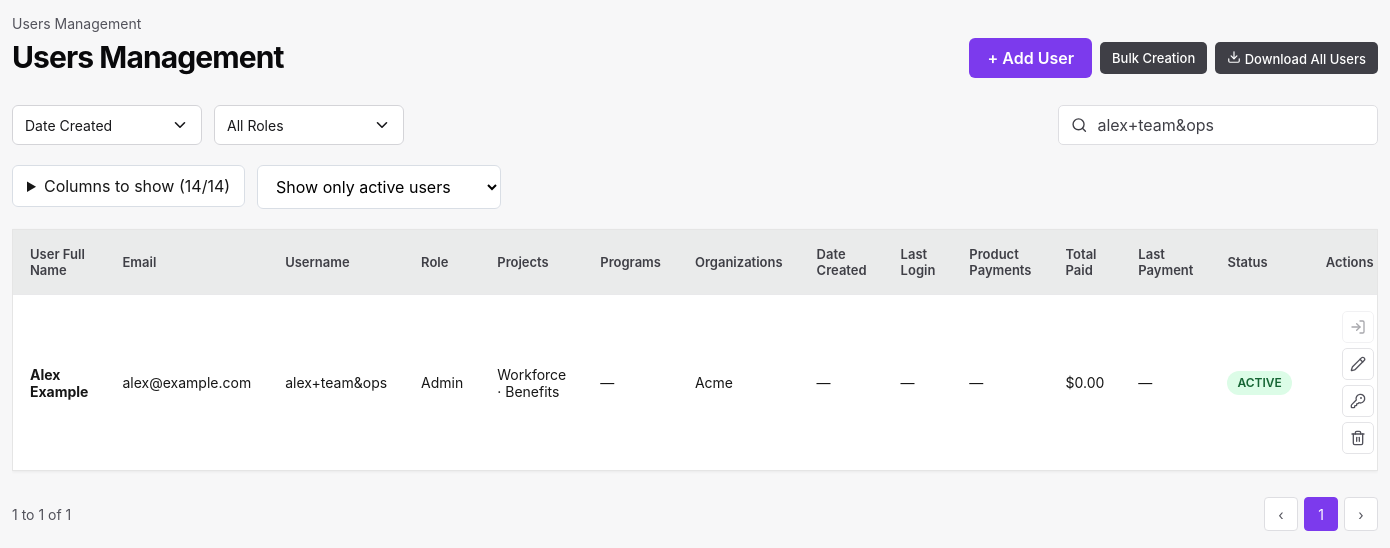
Test case: prefills and filters users from the URL username while allowing search edits
The width and height of the screenshot is (1390, 548).
Check: the text "Alex Example" is shown, box [30,366,88,400]
Check: the text "Blair Example" is not shown
Replace the text in the search field with placeholder "Search users" with "blair" at (1230, 125), box [1096,114,1365,136]
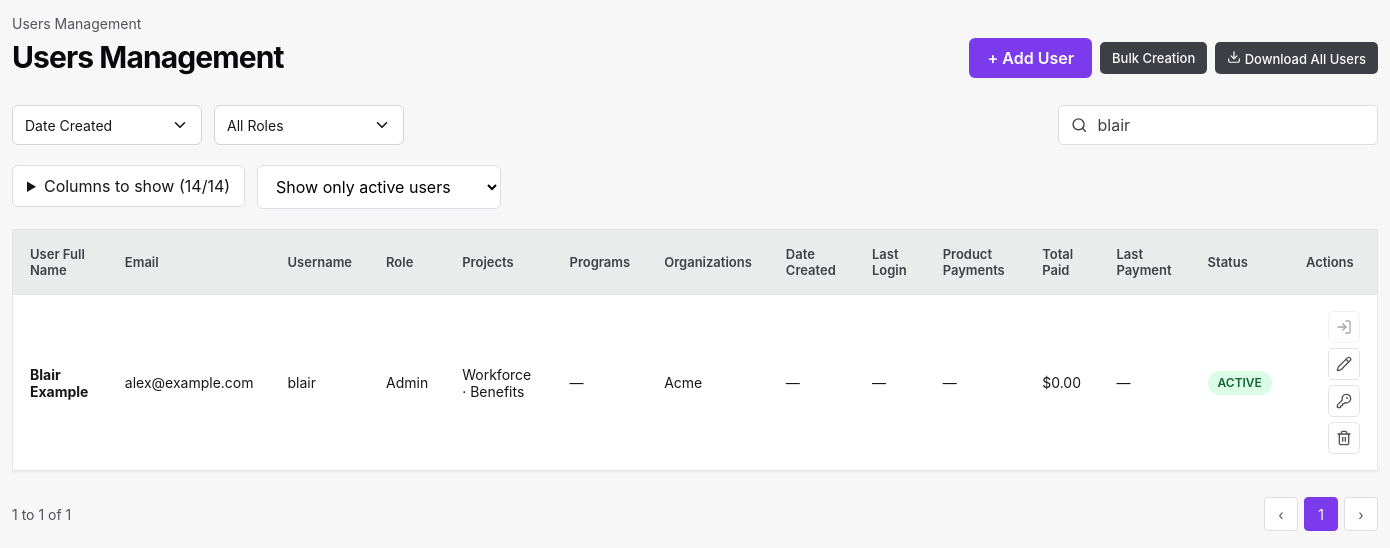
Check: the text "Blair Example" is shown, box [30,366,88,400]
Check: the text "Alex Example" is gone
